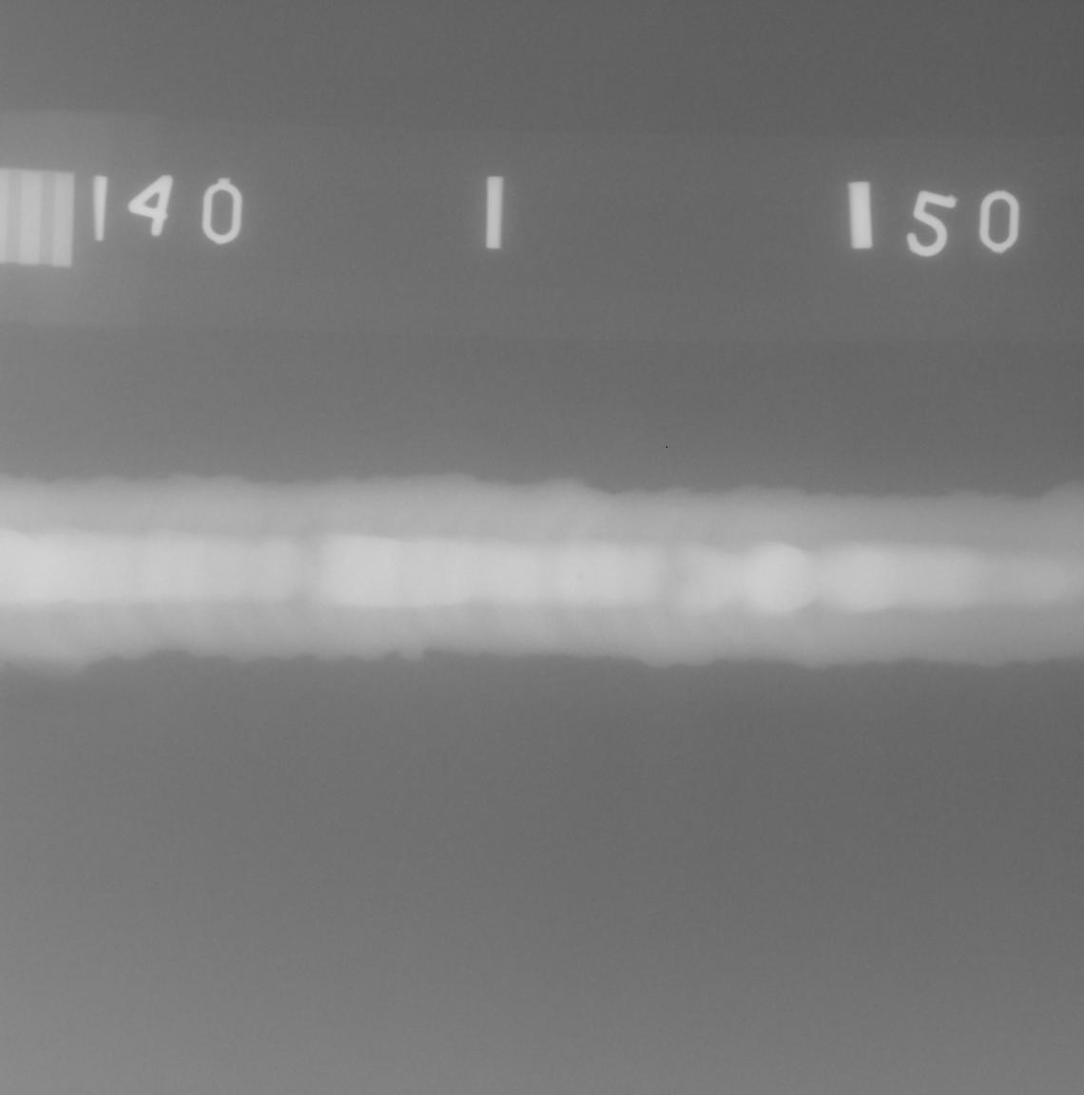Pore/Porosity: (578, 574, 584, 581), (1076, 550, 1082, 554), (1070, 545, 1074, 550)
